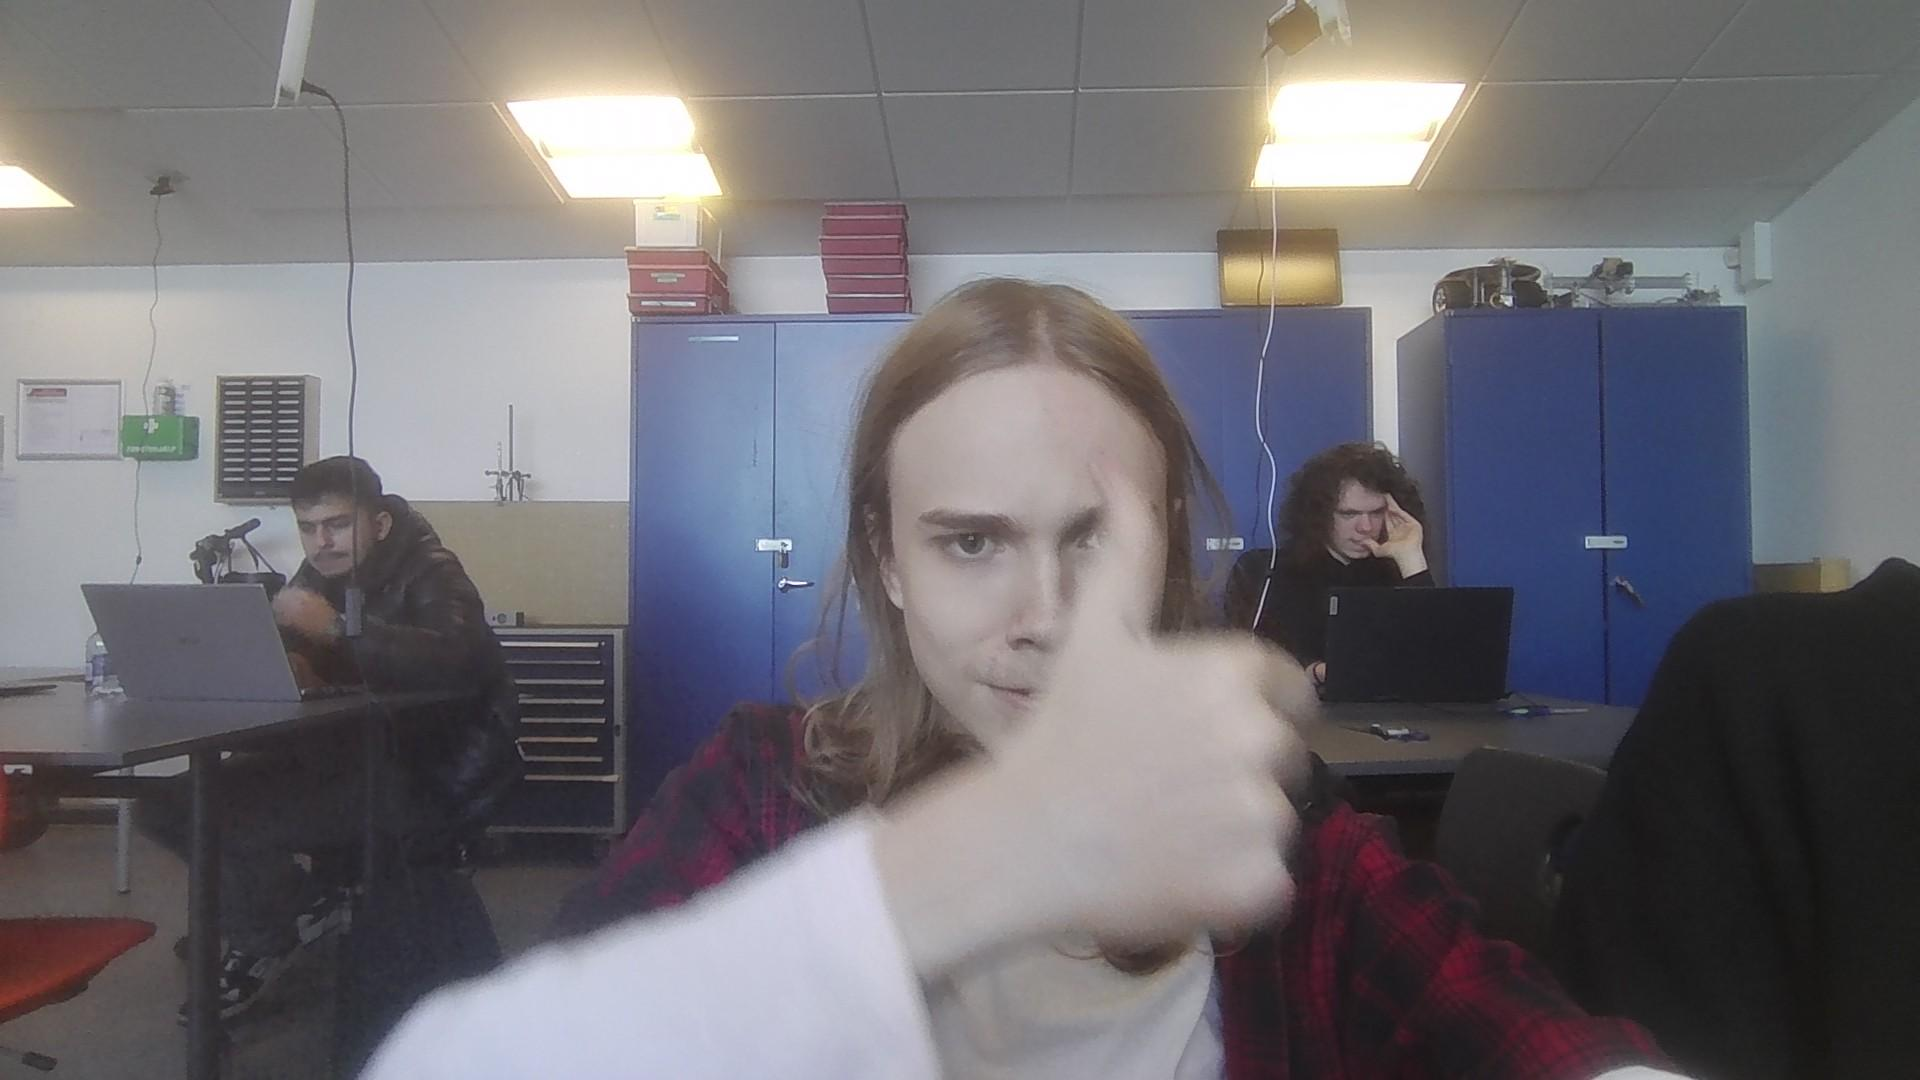thumbs up: (1000, 454, 1323, 977)
